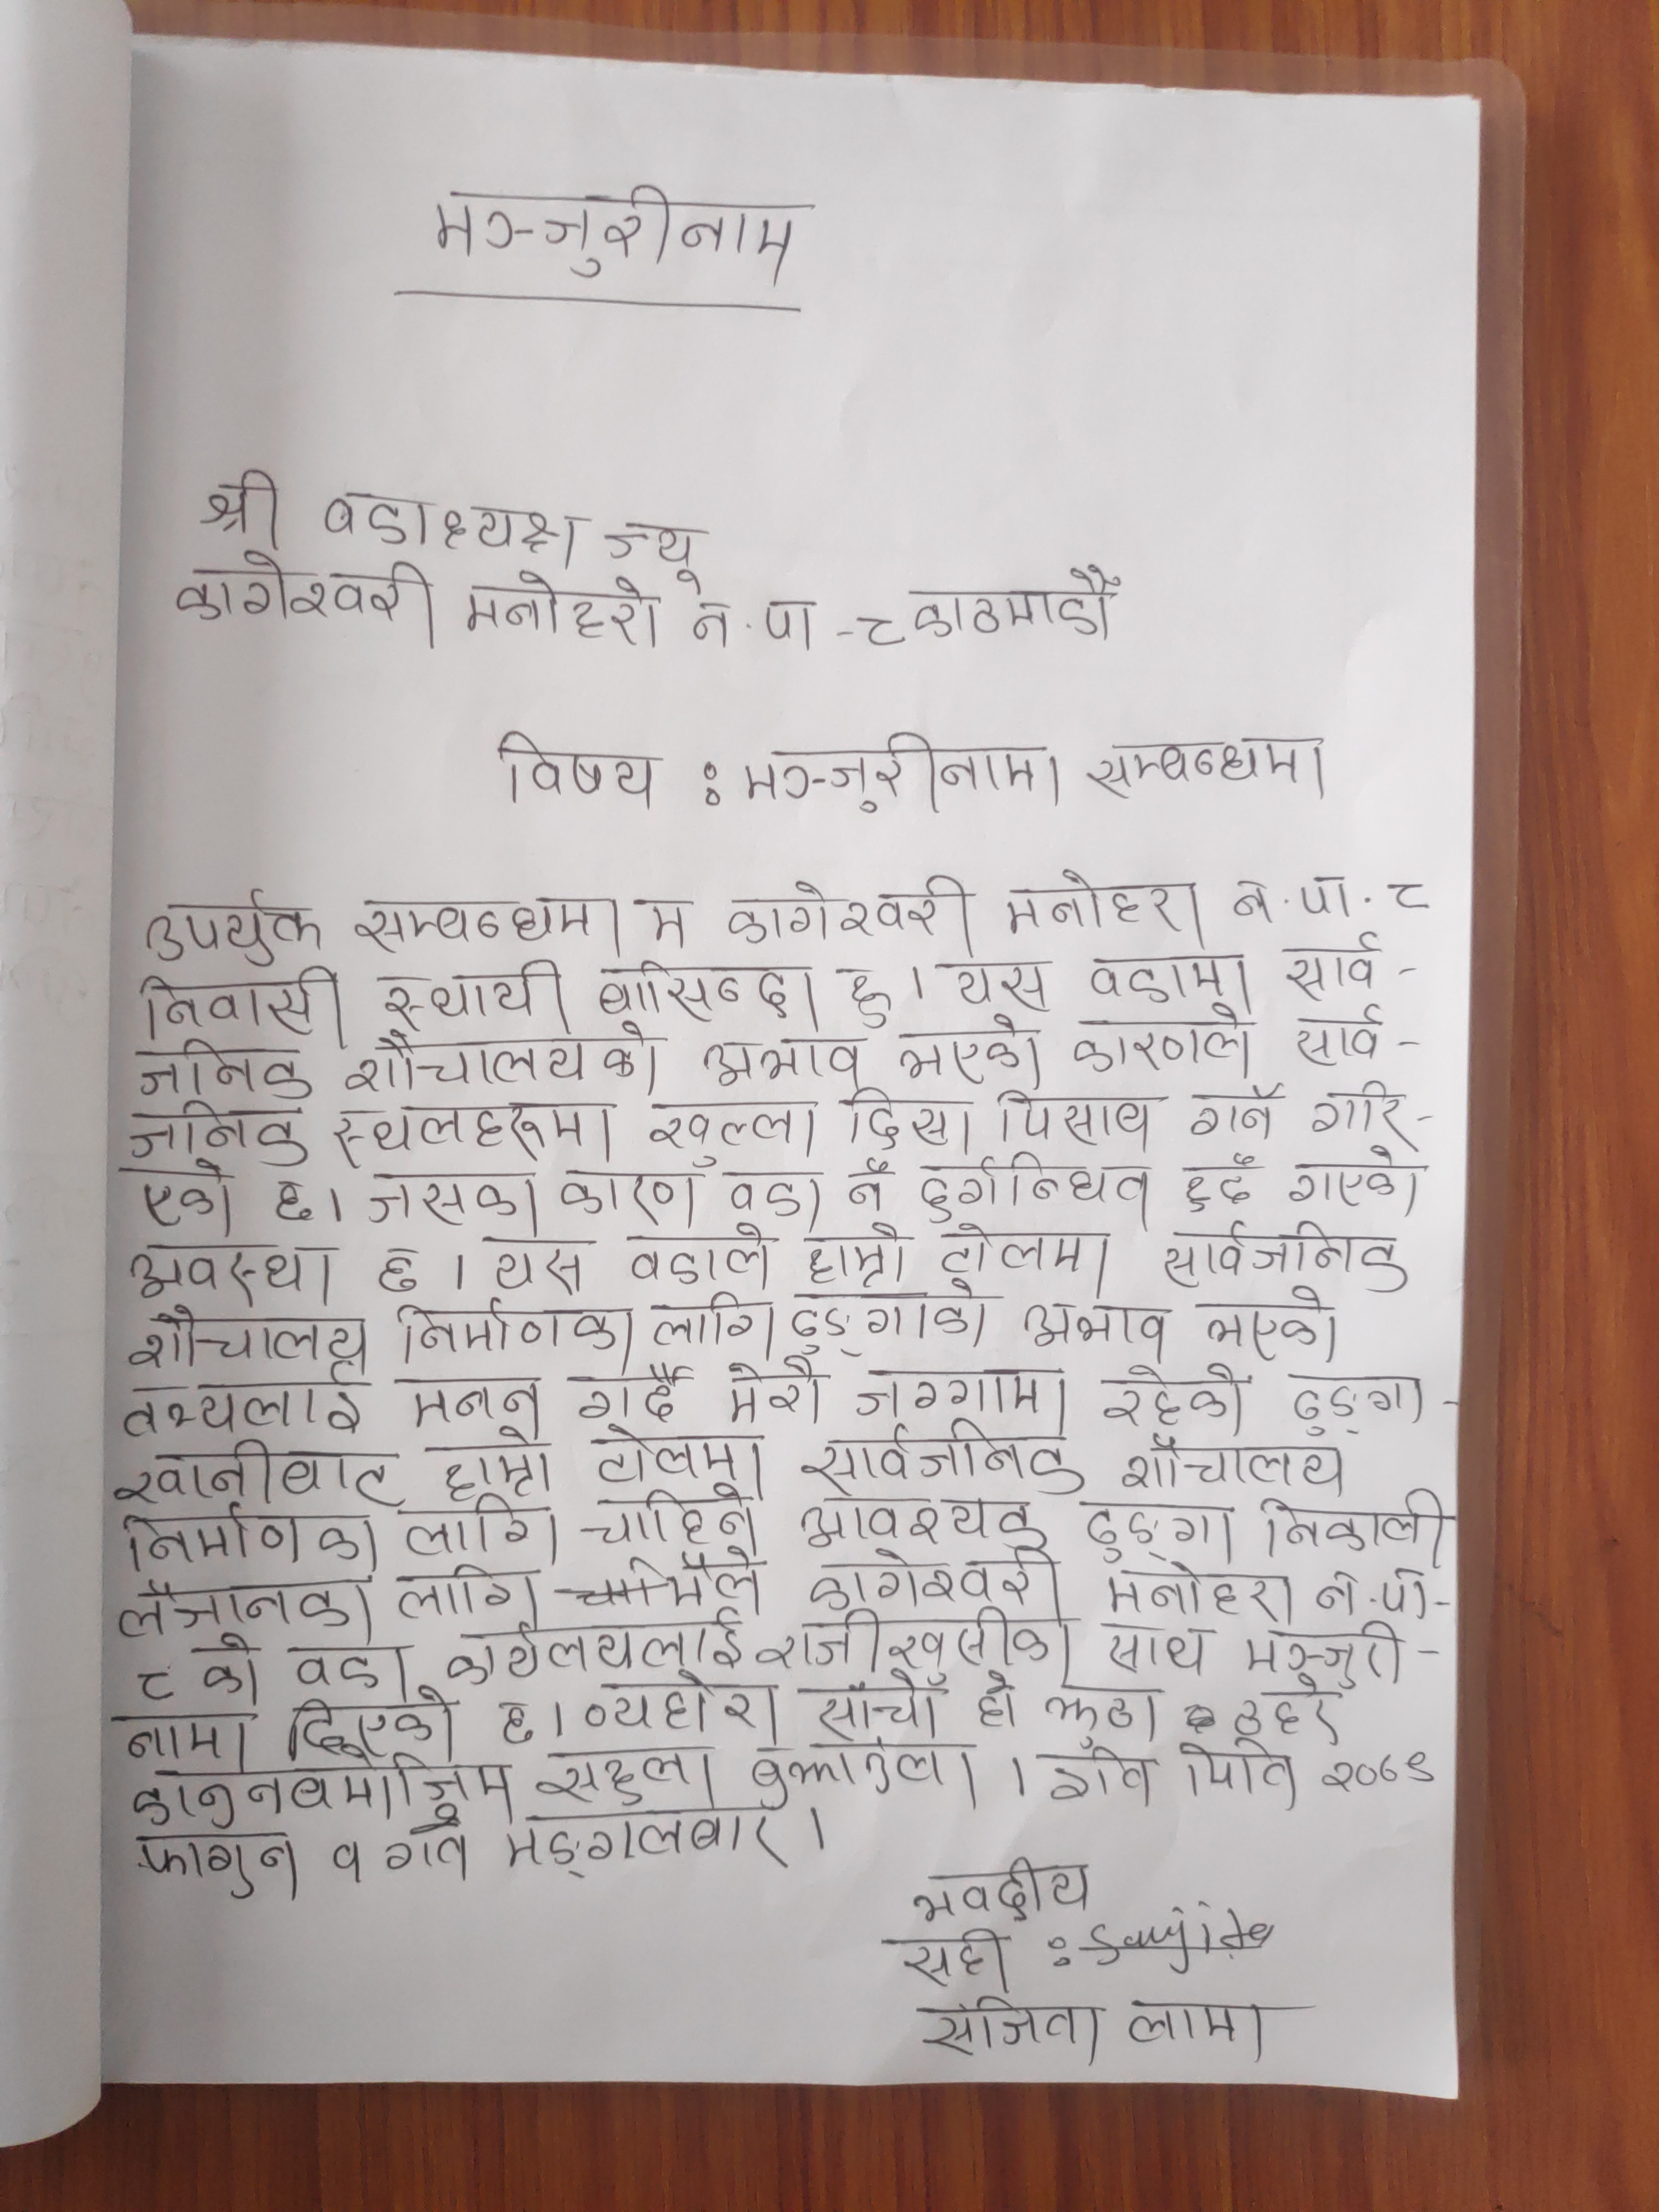text: (422, 178, 805, 284), (744, 726, 1063, 813), (174, 552, 436, 651), (127, 1763, 525, 1822), (500, 1806, 791, 1885), (328, 1099, 629, 1170), (319, 482, 577, 563), (758, 1608, 1086, 1669), (1082, 732, 1333, 808), (795, 1430, 1091, 1494), (791, 1552, 1066, 1620), (113, 1446, 403, 1510), (115, 1367, 368, 1440), (119, 1301, 383, 1371), (901, 1151, 1155, 1223), (1150, 1221, 1410, 1291), (352, 892, 627, 956), (119, 1575, 380, 1641), (793, 1482, 1046, 1550), (340, 1038, 666, 1090), (716, 880, 979, 944), (119, 1512, 387, 1575), (915, 1155, 1166, 1221), (913, 563, 1124, 641), (368, 954, 579, 1031), (737, 1738, 993, 1801), (455, 577, 664, 653), (439, 1622, 744, 1674), (1112, 1432, 1351, 1498), (999, 867, 1213, 939), (591, 956, 823, 1021), (917, 1989, 1115, 2064), (390, 1306, 638, 1366), (127, 972, 347, 1038), (138, 888, 321, 967), (122, 1238, 331, 1306), (568, 1672, 786, 1737), (490, 726, 660, 808), (125, 1831, 307, 1907), (908, 1855, 1100, 1926), (1068, 1005, 1246, 1082), (357, 1167, 538, 1242), (1256, 1491, 1453, 1559), (931, 1219, 1112, 1291), (849, 1360, 1075, 1416), (1098, 1562, 1298, 1625), (784, 1296, 1000, 1353), (549, 1151, 706, 1230), (1187, 1287, 1344, 1366), (640, 1103, 821, 1169), (120, 1099, 310, 1162), (281, 1698, 465, 1763), (584, 1487, 765, 1552), (535, 1747, 725, 1808), (586, 1420, 774, 1480), (988, 1089, 1166, 1153), (1091, 1360, 1251, 1432), (1236, 1627, 1410, 1689), (901, 1017, 1053, 1087), (1279, 1367, 1427, 1437), (1121, 1994, 1274, 2060), (1077, 1503, 1241, 1564), (617, 1230, 774, 1292), (399, 1500, 565, 1559), (394, 1562, 545, 1627), (810, 1672, 955, 1738), (429, 1428, 561, 1500), (394, 1367, 549, 1428), (1075, 949, 1253, 1001), (694, 1036, 870, 1089), (721, 1348, 833, 1430), (1173, 1735, 1300, 1806), (1295, 1146, 1431, 1212), (134, 1043, 312, 1094), (833, 1090, 972, 1153), (1039, 1740, 1162, 1810), (683, 589, 824, 650), (1016, 1299, 1169, 1355), (1309, 1559, 1438, 1625), (889, 1921, 1012, 1989), (124, 1160, 244, 1230), (716, 1153, 830, 1226), (284, 1637, 416, 1698), (1044, 1683, 1162, 1750), (1230, 1677, 1338, 1750), (1225, 867, 1358, 927), (795, 1224, 918, 1287), (566, 1362, 694, 1423), (122, 1717, 263, 1771), (1307, 1075, 1419, 1143), (1274, 941, 1398, 1001), (648, 1292, 779, 1350), (601, 514, 706, 583), (1094, 1622, 1227, 1676), (1284, 1005, 1387, 1071), (202, 458, 282, 540), (664, 1547, 770, 1608), (1185, 1085, 1290, 1143), (490, 1233, 587, 1294), (1323, 1743, 1432, 1796), (1173, 1150, 1263, 1212), (383, 1818, 476, 1879), (192, 1635, 272, 1703), (943, 958, 1051, 1007), (969, 1669, 1032, 1735), (831, 956, 892, 1024), (267, 1163, 319, 1231), (833, 1155, 896, 1211), (326, 1836, 382, 1898), (486, 1696, 542, 1756), (640, 892, 701, 946), (371, 1240, 425, 1299), (1384, 867, 1434, 927), (857, 604, 910, 653), (127, 1662, 179, 1710)
